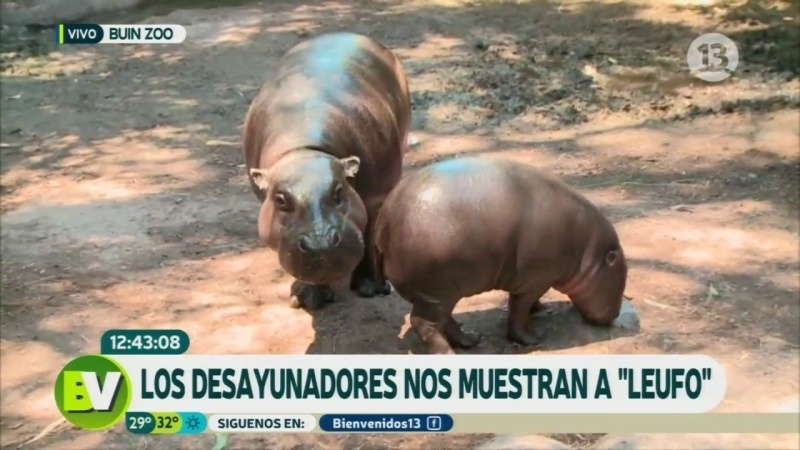hipopotamo: (374, 146, 665, 356), (231, 22, 413, 324)
